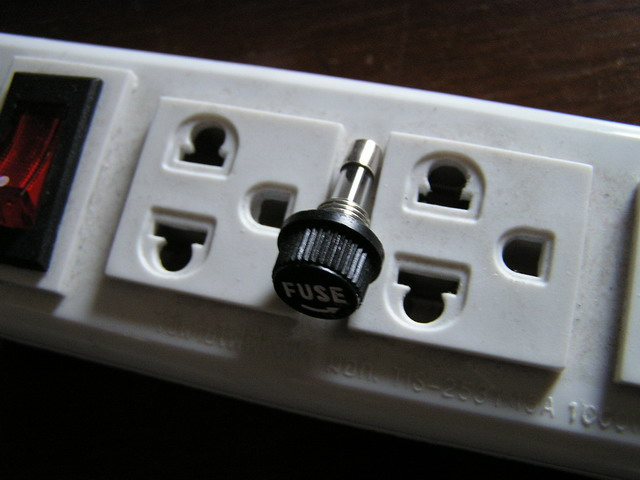Three_eye_plug: (1, 16, 640, 480)
